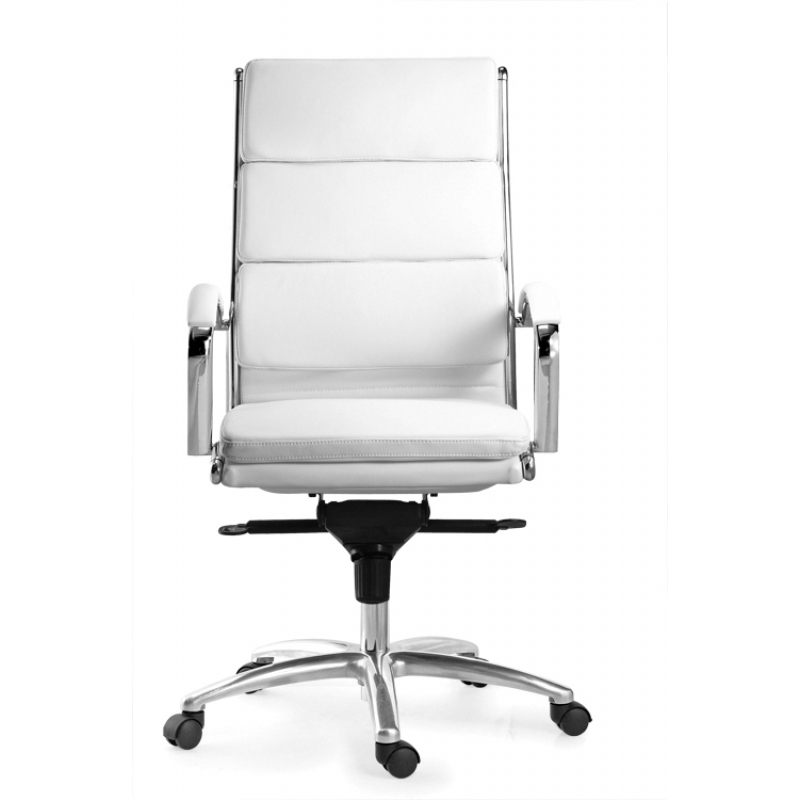chairs: (160, 49, 595, 789)
